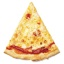pizza: (3, 1, 61, 60)
